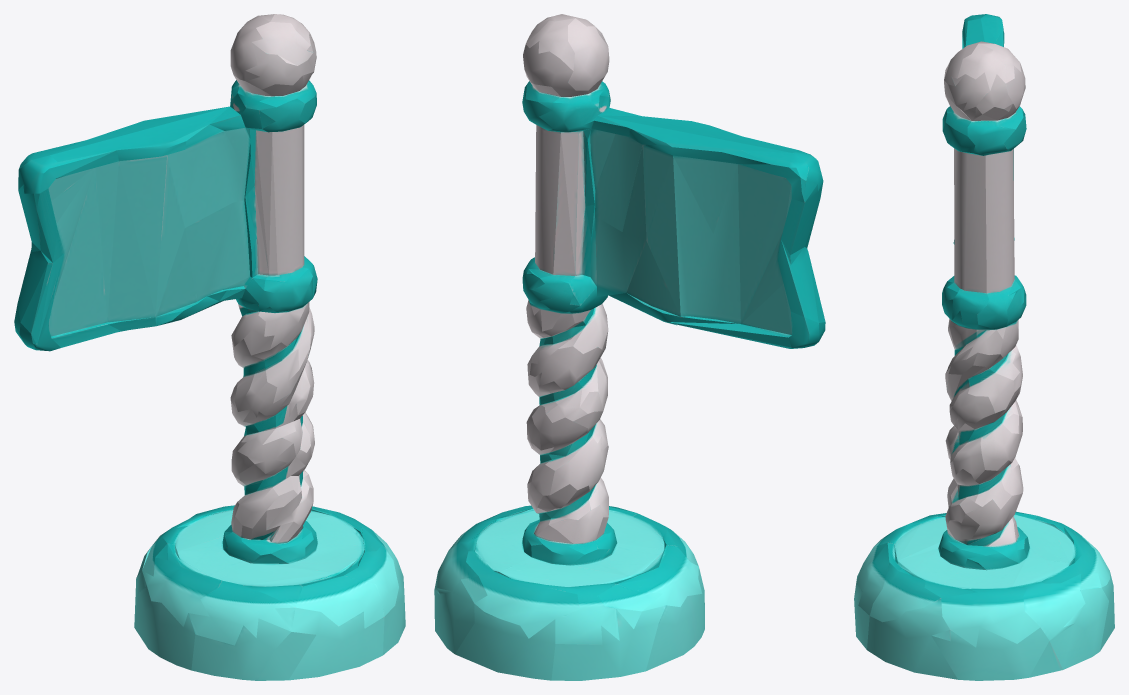
File: checkpoint.glb
3 renders of one model, left to right at view 1: azimuth 30°, elevation 25°; view 2: azimuth 150°, elevation 25°; view 3: azimuth 270°, elevation 25°, orthographic. The views are drawn at different scales.
Bounding box in the file's own units: 1.21 × 1.9 × 0.7726.
Materials: 1 (1 with a texture image).
